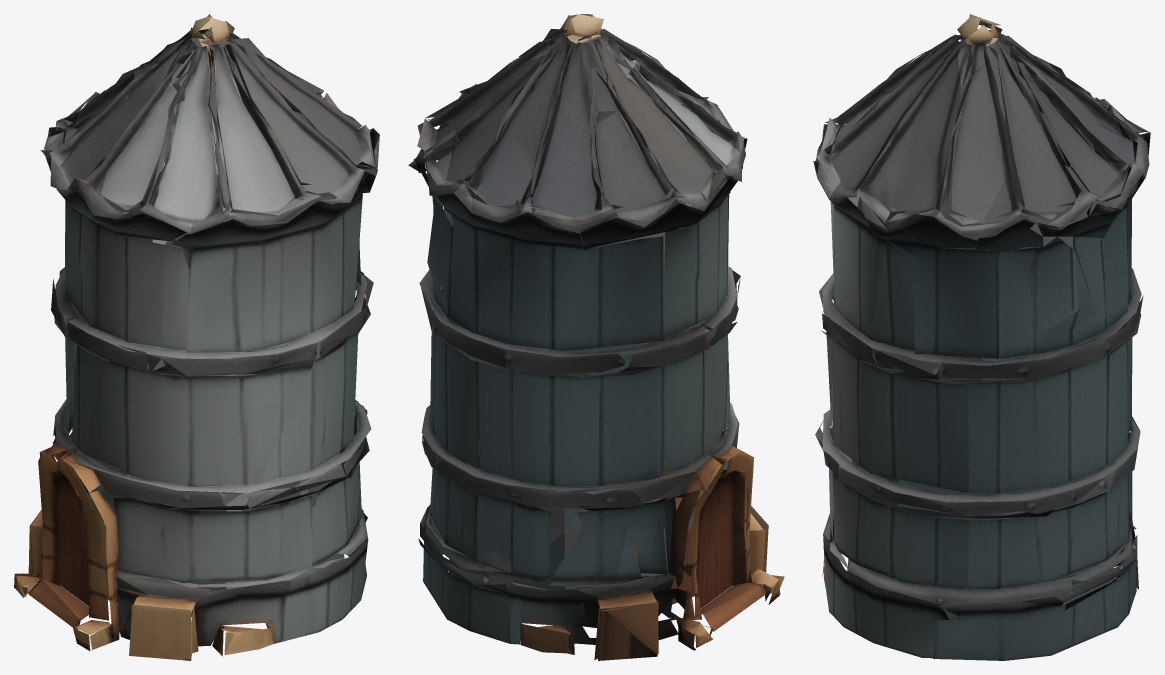
File: feed_silo.fbx
The picture shows the model from 3 angles, left to right: view 1: azimuth 30°, elevation 25°; view 2: azimuth 150°, elevation 25°; view 3: azimuth 270°, elevation 25°; orthographic projection.
Parts seen in each view (by area): view 1: feed_silo; view 2: feed_silo; view 3: feed_silo.
Part boxes in pixels (left/top/right/bottom): feed_silo: left=14, top=14, right=379, bottom=660; feed_silo: left=408, top=14, right=784, bottom=660; feed_silo: left=813, top=14, right=1150, bottom=660.
Size of the model in its own units: 1.13 by 1.98 by 1.05.
Materials: 1 (1 with a texture image).
